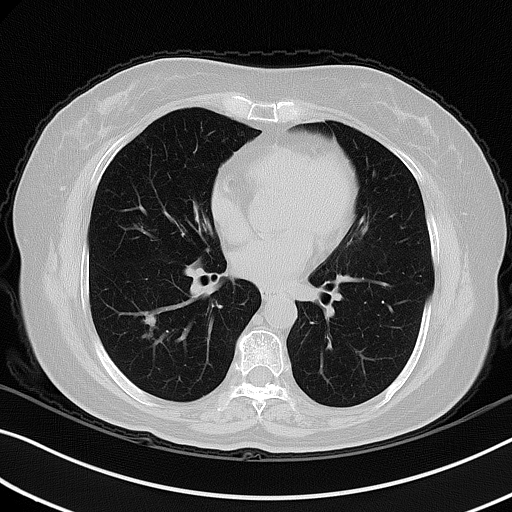nodule: (142, 314, 156, 326)
